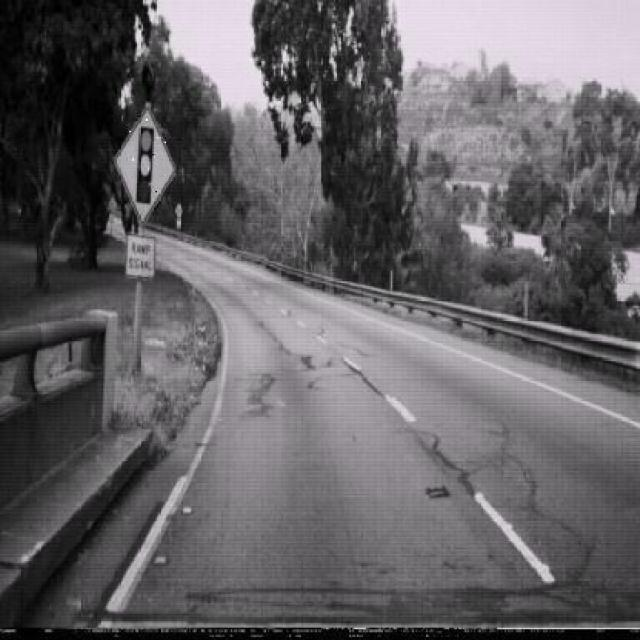signalAhead: (114, 106, 176, 226)
